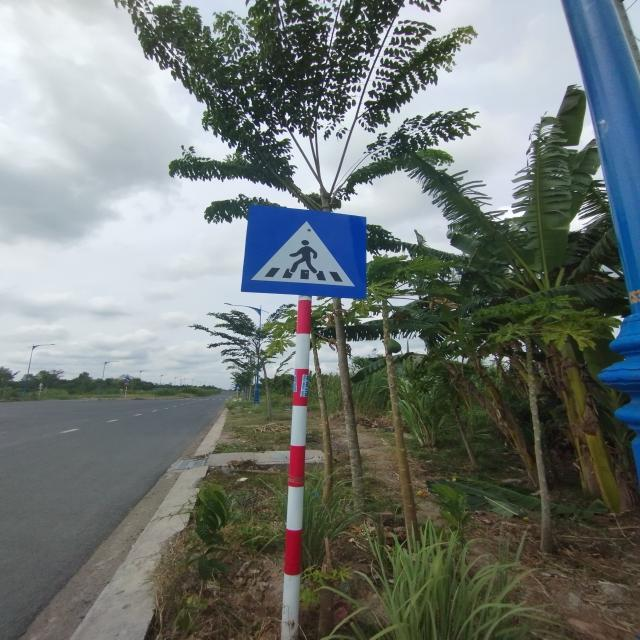Giao_Nhau_Duong_Uu_Tien: (242, 204, 367, 299)
